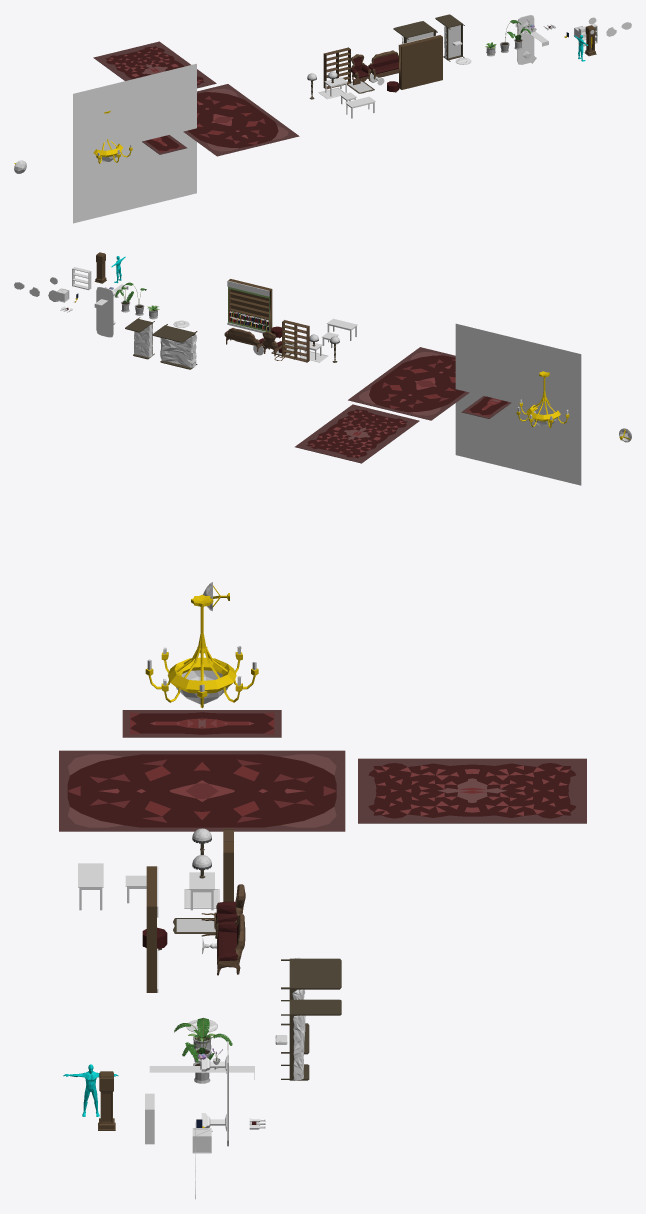
File: Paemberley Decor.fbx
3 views of the same model, one above another, from view 1: azimuth 30°, elevation 25°; view 2: azimuth 150°, elevation 25°; view 3: azimuth 270°, elevation 25° (orthographic). The views are drawn at different scales.
Visible parts, largest first — view 1: Ceiling Art, Large Rug 1, Large Rug 2, Shelves 2, Bed, Dining Table, Sofa 1, Master Bed, Runner 1, Chandelier, High Back Chair, Shelves2 (+1 smaller); view 2: Ceiling Art, Large Rug 1, Large Rug 2, Shelves 2, Master Bed Spread, Dining Table, Chandelier, Runner 1, Master Bed, Spread, Shelves2, Sofa 1 (+1 smaller); view 3: Large Rug 1, Large Rug 2, Runner 1, Chandelier, Master Bed, Shelves 2, Bed, Sofa 1.
Part boxes in pixels (bbox=[...]): Ceiling Art: bbox=[73, 63, 196, 223]; Large Rug 1: bbox=[183, 84, 299, 156]; Large Rug 2: bbox=[93, 41, 216, 88]; Shelves 2: bbox=[398, 34, 442, 89]; Bed: bbox=[435, 14, 464, 61]; Dining Table: bbox=[517, 15, 536, 64]; Sofa 1: bbox=[368, 50, 398, 79]; Master Bed: bbox=[393, 21, 437, 43]; Runner 1: bbox=[142, 135, 186, 154]; Chandelier: bbox=[93, 110, 132, 163]; High Back Chair: bbox=[351, 54, 371, 81]; Shelves2: bbox=[336, 47, 350, 86]; Ceiling Art: bbox=[455, 323, 581, 485]; Large Rug 1: bbox=[348, 347, 469, 420]; Large Rug 2: bbox=[295, 404, 419, 463]; Shelves 2: bbox=[227, 279, 272, 333]; Master Bed Spread: bbox=[160, 334, 196, 367]; Dining Table: bbox=[96, 287, 115, 337]; Chandelier: bbox=[516, 371, 569, 428]; Runner 1: bbox=[461, 396, 511, 418]; Master Bed: bbox=[152, 324, 197, 369]; Spread: bbox=[134, 324, 152, 357]; Shelves2: bbox=[282, 320, 297, 359]; Sofa 1: bbox=[224, 328, 263, 351]; Large Rug 1: bbox=[59, 750, 345, 831]; Large Rug 2: bbox=[358, 758, 586, 823]; Runner 1: bbox=[122, 710, 281, 737]; Chandelier: bbox=[145, 594, 258, 708]; Master Bed: bbox=[281, 958, 341, 1054]; Shelves 2: bbox=[146, 866, 158, 992]; Bed: bbox=[281, 999, 341, 1080]; Sofa 1: bbox=[217, 914, 245, 975].
Bounding box in the file's own units: 8916 × 1800 × 3320.
